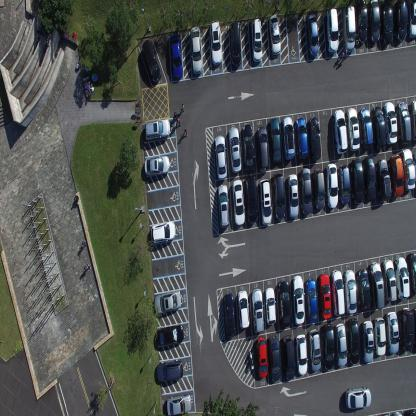car: (142, 38, 162, 84), (368, 261, 384, 310), (156, 322, 185, 349), (382, 100, 398, 145), (317, 273, 332, 321), (330, 269, 345, 317), (398, 307, 414, 352), (388, 154, 404, 198), (154, 289, 182, 314), (376, 158, 392, 201), (241, 124, 255, 173), (144, 117, 170, 143), (292, 274, 305, 326), (333, 108, 348, 153), (341, 6, 356, 51), (157, 358, 184, 383), (168, 34, 182, 82), (268, 117, 282, 165), (299, 166, 313, 214), (258, 178, 272, 226), (277, 280, 291, 328), (268, 334, 282, 382), (395, 256, 410, 300), (272, 172, 286, 219), (150, 219, 176, 244), (397, 101, 412, 144), (382, 258, 397, 301), (350, 158, 364, 204), (305, 278, 319, 324), (344, 387, 372, 410), (245, 175, 258, 224), (190, 25, 203, 74), (228, 127, 242, 172), (372, 105, 386, 150), (325, 8, 339, 53), (334, 322, 348, 367), (256, 125, 269, 173), (232, 178, 245, 226), (347, 317, 360, 365), (322, 322, 335, 370), (362, 156, 376, 200), (346, 107, 360, 151), (367, 0, 381, 44), (386, 310, 400, 354), (223, 292, 236, 339), (401, 147, 415, 190), (214, 134, 227, 180), (306, 12, 319, 58), (251, 288, 264, 334), (344, 269, 357, 315), (282, 334, 295, 380), (229, 20, 241, 69), (294, 116, 308, 158), (394, 0, 408, 42), (357, 268, 371, 310), (282, 115, 295, 160), (217, 184, 230, 229), (210, 19, 222, 67), (359, 108, 373, 149), (144, 156, 170, 178), (308, 116, 321, 160), (355, 0, 368, 44), (166, 394, 192, 416), (308, 328, 321, 372), (326, 162, 338, 209), (381, 0, 393, 47), (361, 320, 374, 363), (251, 17, 263, 63), (312, 168, 325, 210), (337, 164, 350, 206), (287, 173, 299, 218), (268, 14, 281, 55), (237, 288, 250, 328), (373, 317, 386, 356), (296, 334, 308, 376), (256, 336, 267, 378), (264, 287, 276, 325), (406, 0, 416, 41), (408, 251, 415, 294), (410, 99, 415, 143), (405, 408, 416, 416), (391, 410, 403, 416)
